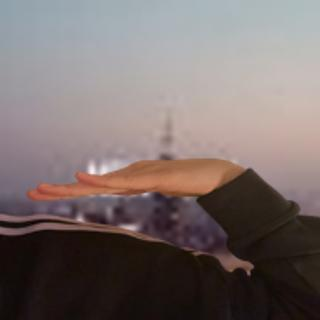Wait: (23, 148, 249, 209)
